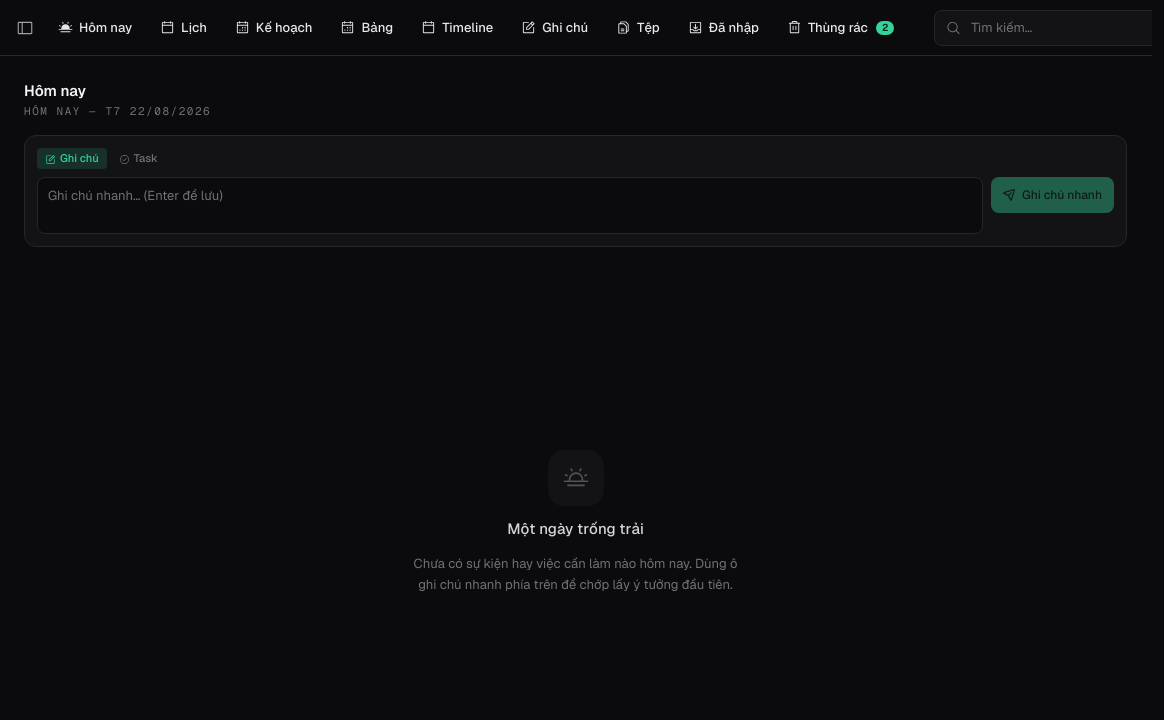
MainWorkspace calendar tab (real FullCalendar) › warns about restored blocks whose uploads were deleted and clears the dangling link
Step 1. Click the button "Thùng rác 2" → (841, 28), box [775, 12, 906, 43]
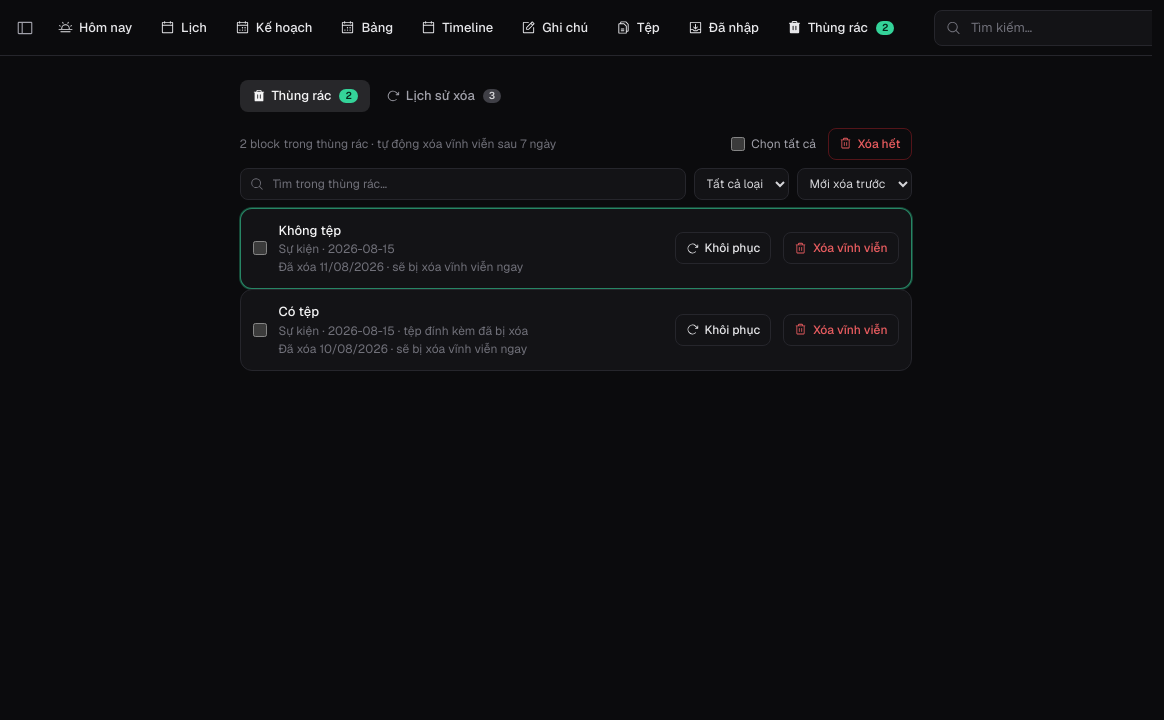
Note: Restoring the block that owned an upload surfaces the dangling-file notice.
Step 2. Click the button with aria-label "Khôi phục Có tệp" → (723, 330), box [674, 314, 771, 346]
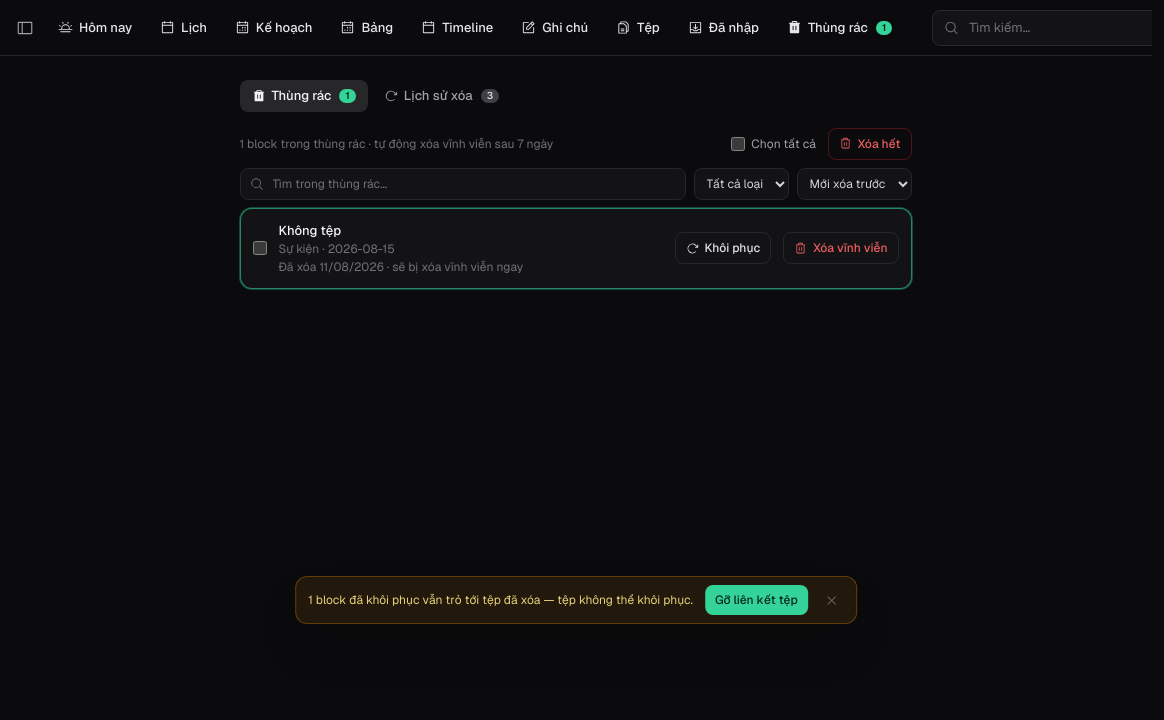
Note: The other restore keeps the notice silent (no upload).
Step 3. Click the button with aria-label "Khôi phục Không tệp" → (723, 248), box [674, 232, 771, 264]
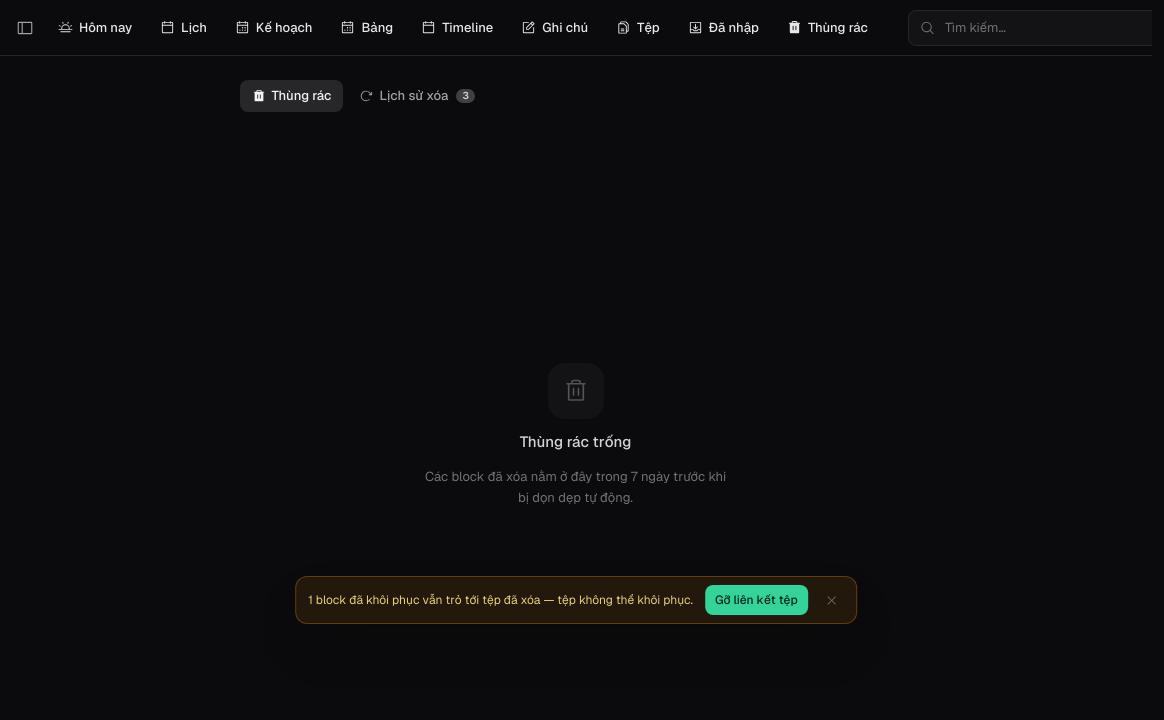
Now the text "1 block đã khôi phục vẫn trỏ tới tệp đã xóa" is shown, box [308, 592, 693, 608]
Note: "Gỡ liên kết tệp" clears the dangling reference through updateBlock.
Step 4. Click the button with aria-label "Gỡ liên kết tệp đã xóa" → (756, 600), box [705, 585, 808, 615]
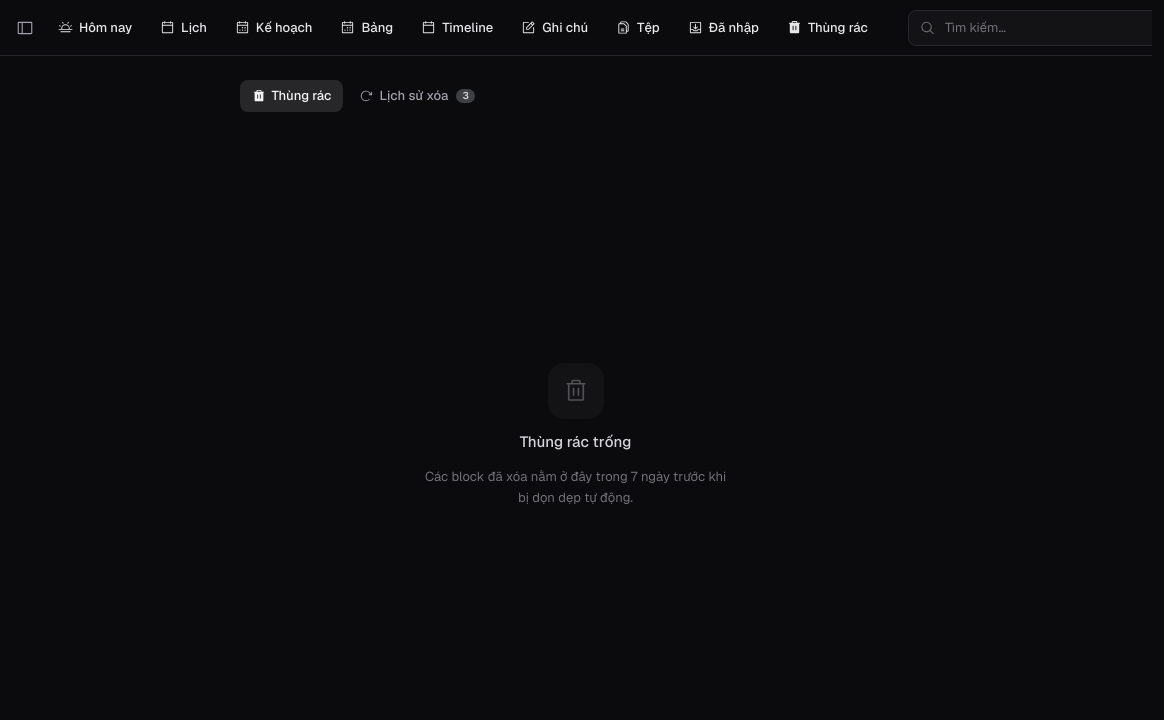
Now the text "block đã khôi phục vẫn trỏ tới tệp đã xóa" is gone
